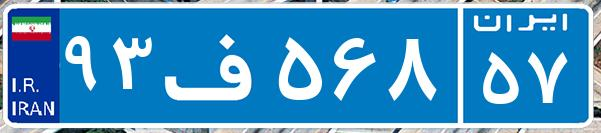3: (110, 28, 158, 105)
5: (273, 28, 330, 110), (475, 38, 525, 113)
6: (330, 28, 385, 110)
7: (525, 38, 570, 115)
8: (385, 28, 445, 110)
9: (57, 26, 110, 107)
ف: (158, 15, 273, 115)
